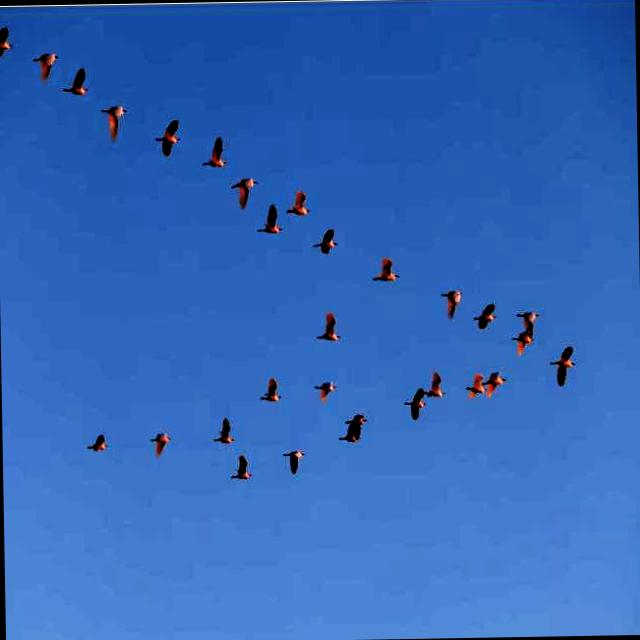bird: (547, 338, 587, 390), (99, 96, 128, 144), (153, 119, 186, 158), (370, 252, 403, 288), (228, 172, 259, 210), (200, 134, 228, 176), (436, 280, 464, 322), (314, 310, 344, 348), (27, 51, 61, 84), (470, 298, 501, 334), (257, 199, 284, 240), (280, 439, 308, 478), (255, 370, 282, 410), (61, 68, 92, 100), (484, 364, 510, 402), (310, 370, 337, 406), (210, 413, 236, 449), (310, 228, 341, 258), (403, 387, 429, 422), (284, 186, 312, 218), (506, 330, 537, 357), (464, 367, 484, 408), (146, 430, 172, 460), (424, 365, 446, 400), (0, 24, 22, 57), (514, 306, 544, 330), (230, 454, 252, 486), (85, 430, 112, 454), (337, 428, 362, 448), (342, 412, 372, 428)
